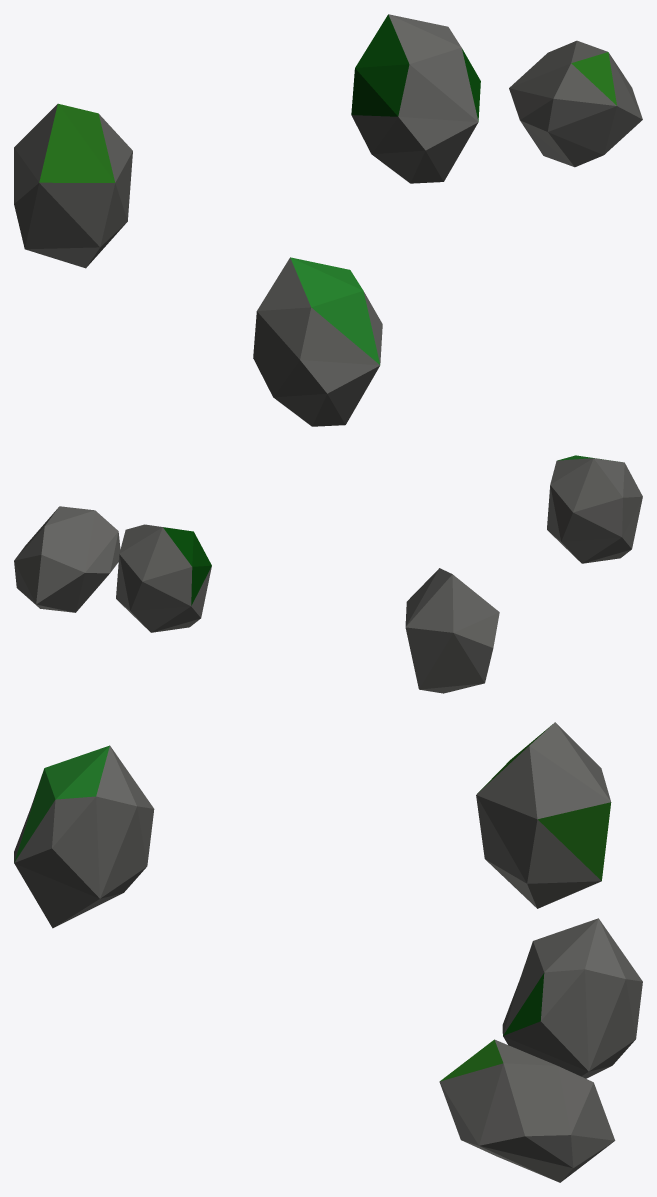
File: Piedras.fbx
3 renders of one model, top to bottom at view 1: azimuth 30°, elevation 25°; view 2: azimuth 150°, elevation 25°; view 3: azimuth 270°, elevation 25°, orthographic. The views are drawn at different scales.
Parts seen in each view (by area): view 1: Esfera geodésica.001, Esfera geodésica.002, Esfera geodésica, Esfera geodésica.004; view 2: Esfera geodésica, Esfera geodésica.001, Esfera geodésica.002, Esfera geodésica.004; view 3: Esfera geodésica, Esfera geodésica.001, Esfera geodésica.004, Esfera geodésica.002.
Part boxes in pixels (x1,y1,x2,y2): Esfera geodésica.001: (253,257,382,426); Esfera geodésica.002: (351,14,480,183); Esfera geodésica: (14,103,132,268); Esfera geodésica.004: (509,40,642,167); Esfera geodésica: (405,568,499,693); Esfera geodésica.001: (547,455,642,563); Esfera geodésica.002: (116,524,211,632); Esfera geodésica.004: (14,506,120,612); Esfera geodésica: (476,722,611,908); Esfera geodésica.001: (14,745,154,928); Esfera geodésica.004: (439,1039,615,1182); Esfera geodésica.002: (502,918,642,1078).
Size of the model in its own units: 1097 by 294 by 910.
